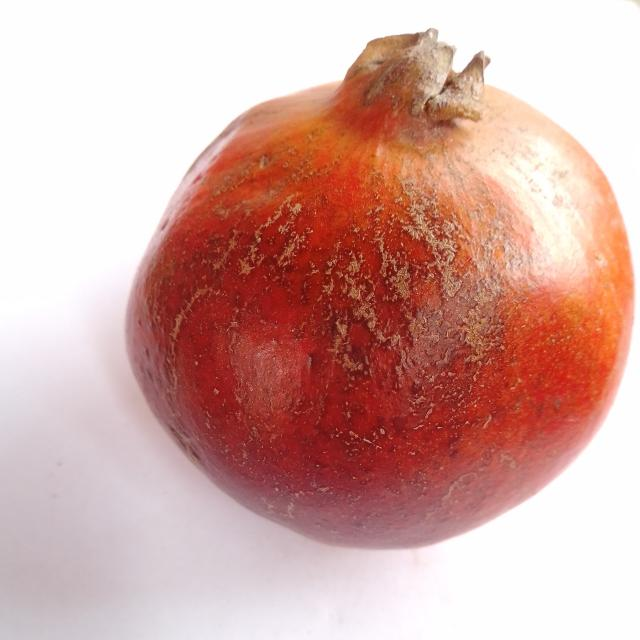Ripe: (121, 20, 632, 555)
